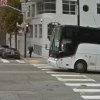Bus: (45, 20, 95, 79)
